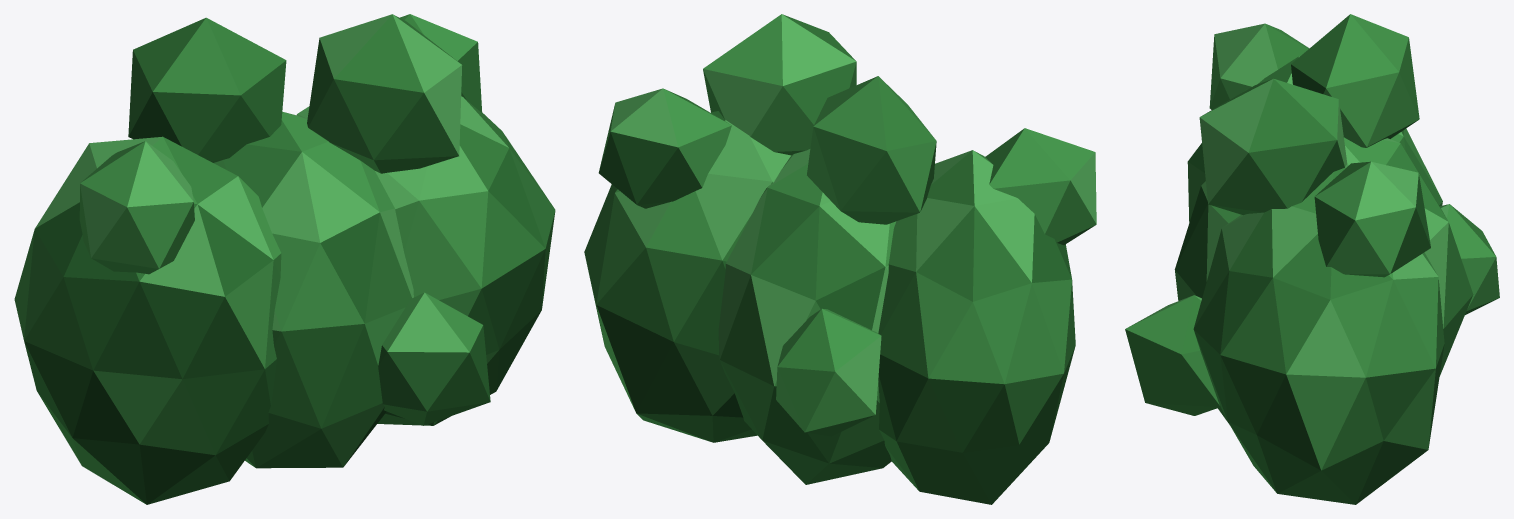
Rendered from mine-bush-1.glb.
3 renders of one model, left to right at view 1: azimuth 30°, elevation 25°; view 2: azimuth 150°, elevation 25°; view 3: azimuth 270°, elevation 25°, orthographic. The views are drawn at different scales.
Parts seen in each view (by area): view 1: MineBush1; view 2: MineBush1; view 3: MineBush1.
Boxes of the visible parts, left/top/right/bottom form: MineBush1: left=14, top=14, right=555, bottom=504; MineBush1: left=584, top=14, right=1096, bottom=504; MineBush1: left=1125, top=14, right=1499, bottom=504.
Size of the model in its own units: 2.18 by 1.8 by 1.55.
